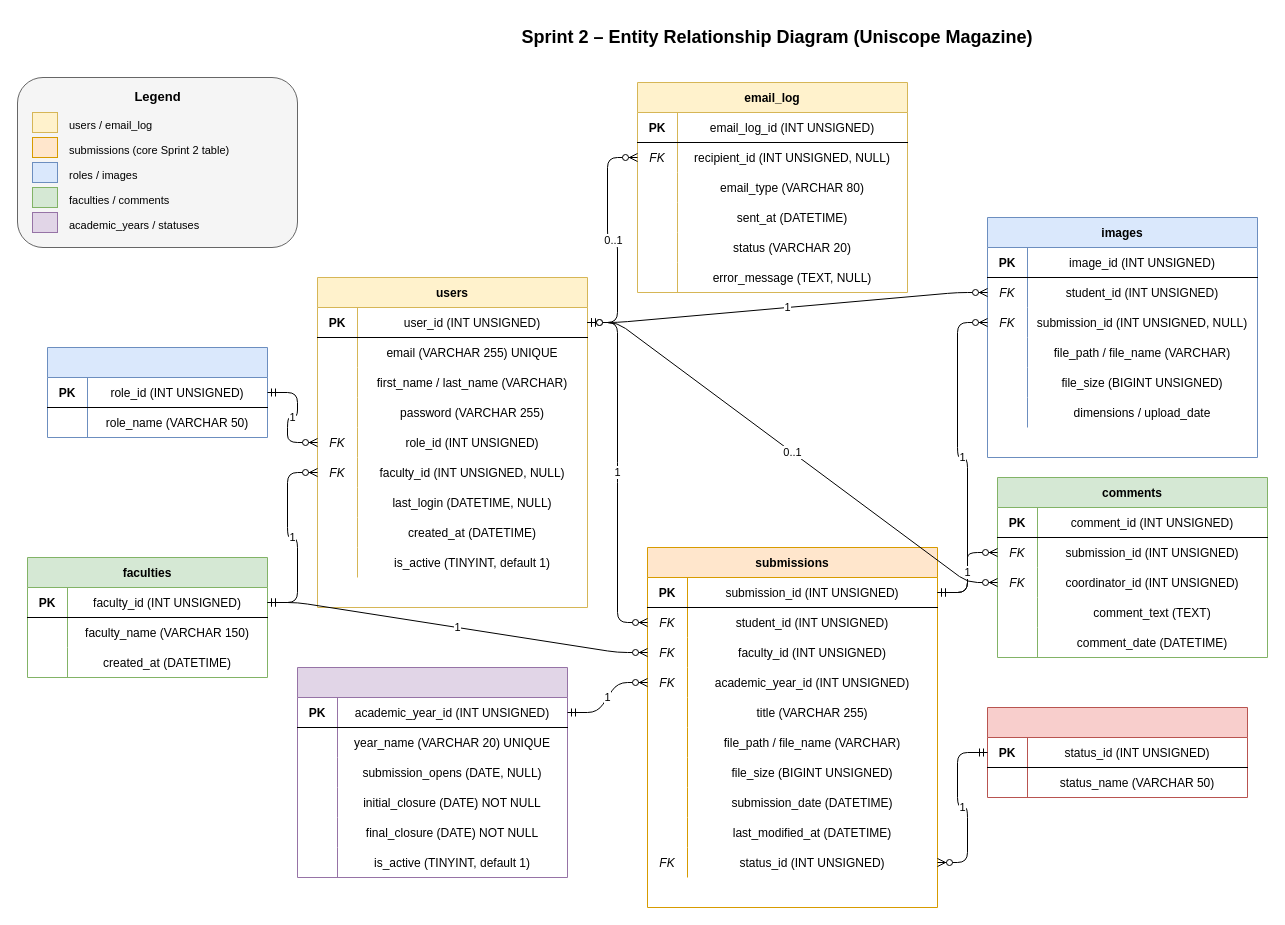
Image size: 1285x925. Some labels were removed from this diagram. Each missing label, with the box of its shape:
academic_years: (296, 666, 568, 878)
roles: (46, 346, 268, 438)
submission_statuses: (986, 706, 1248, 798)
